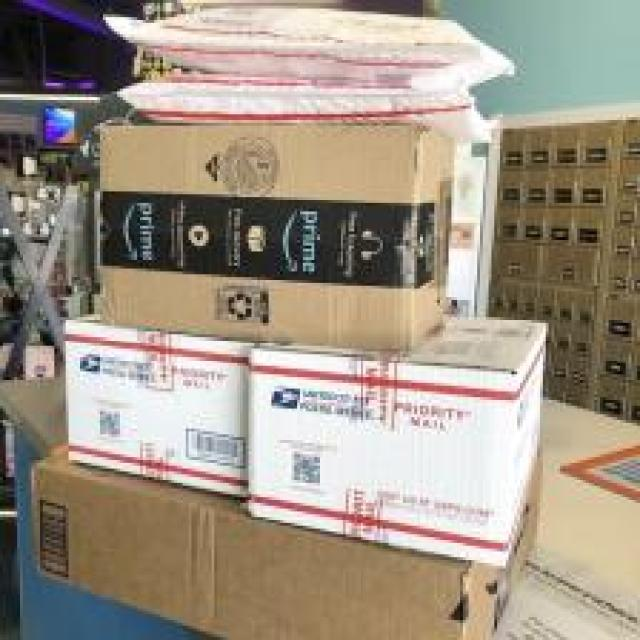box: (19, 1, 640, 625)
